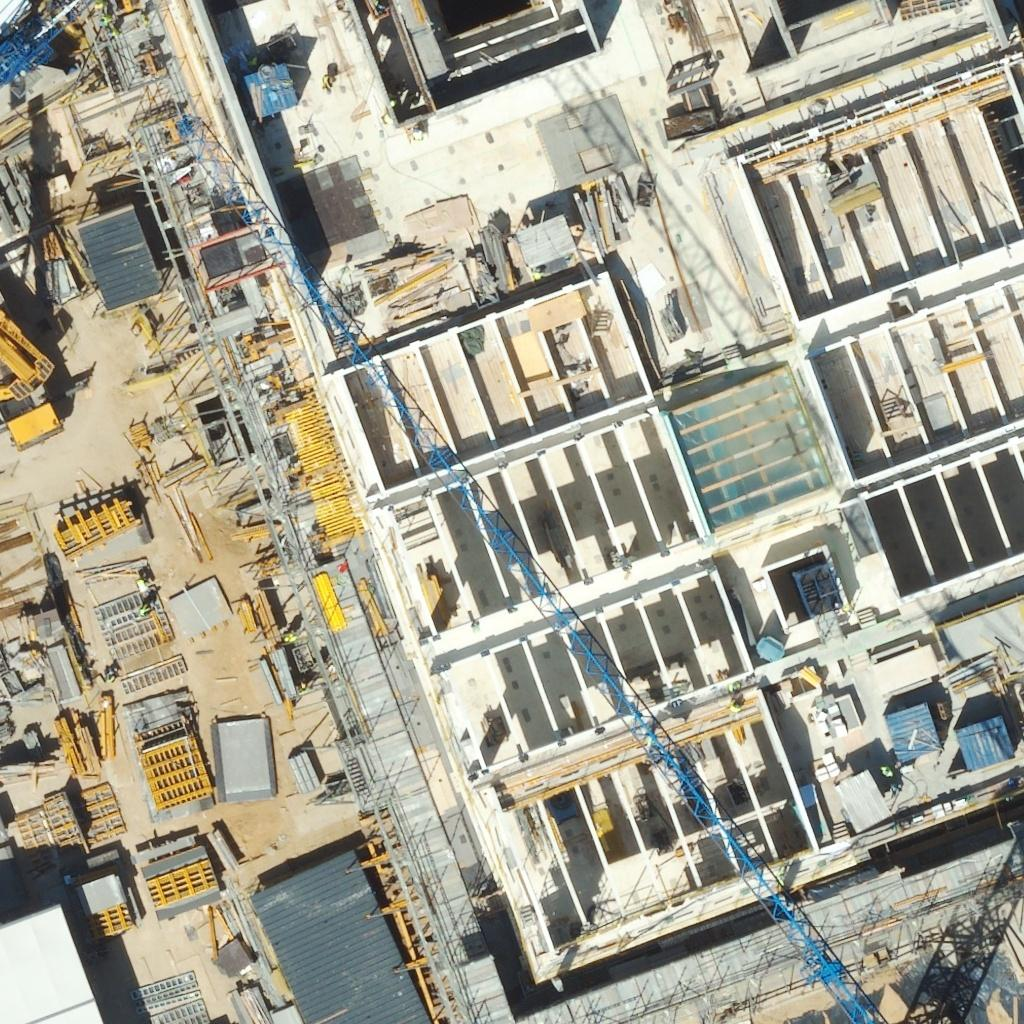kontener: (954, 715, 1014, 769), (837, 772, 890, 833), (886, 703, 940, 762)
zuraw_wiezowy: (179, 115, 880, 1023), (0, 0, 101, 88)
